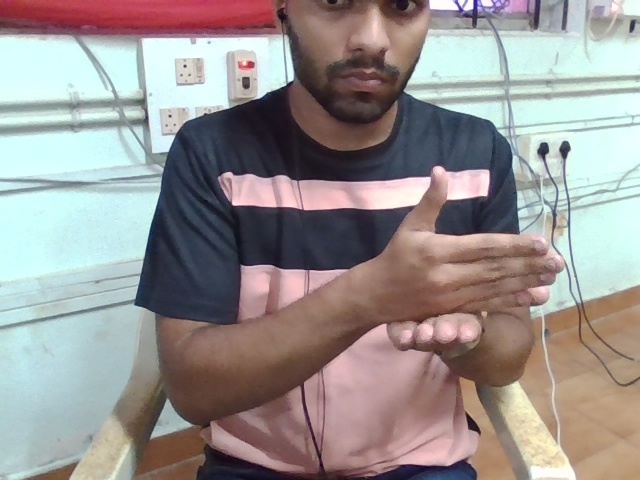stop: (352, 147, 565, 383)
